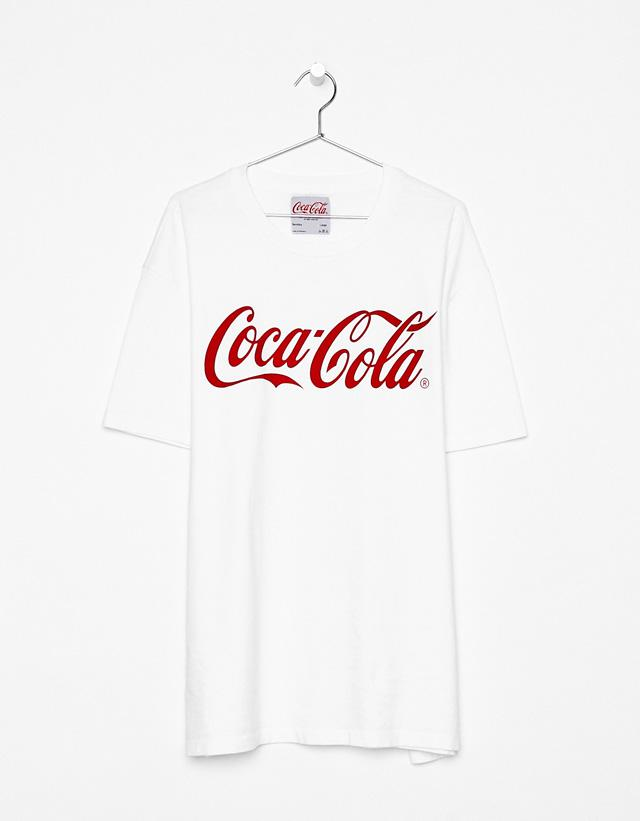teeshirt: (43, 150, 538, 804)
